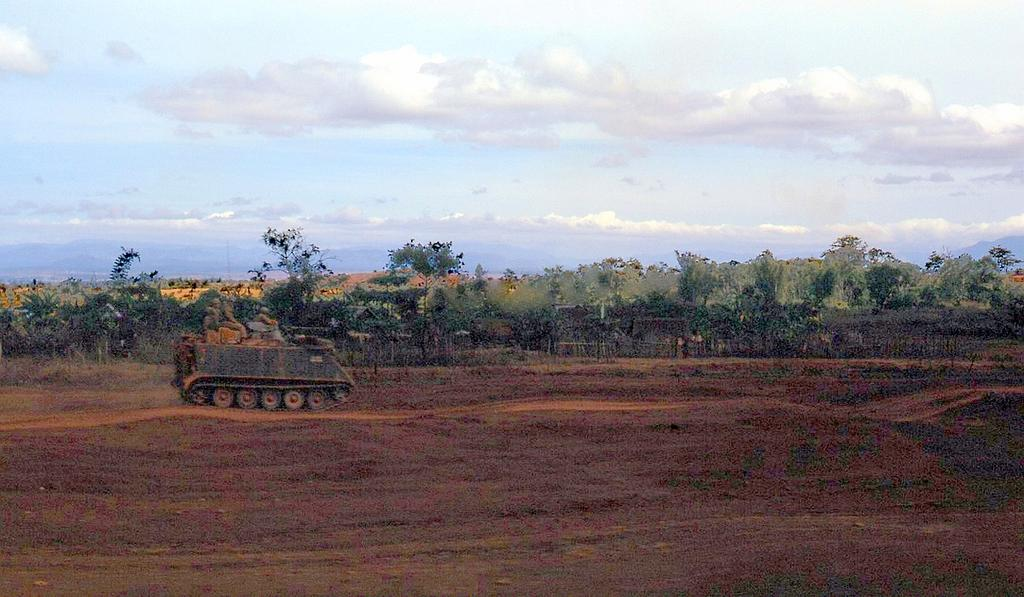Tank: (171, 318, 360, 414)
